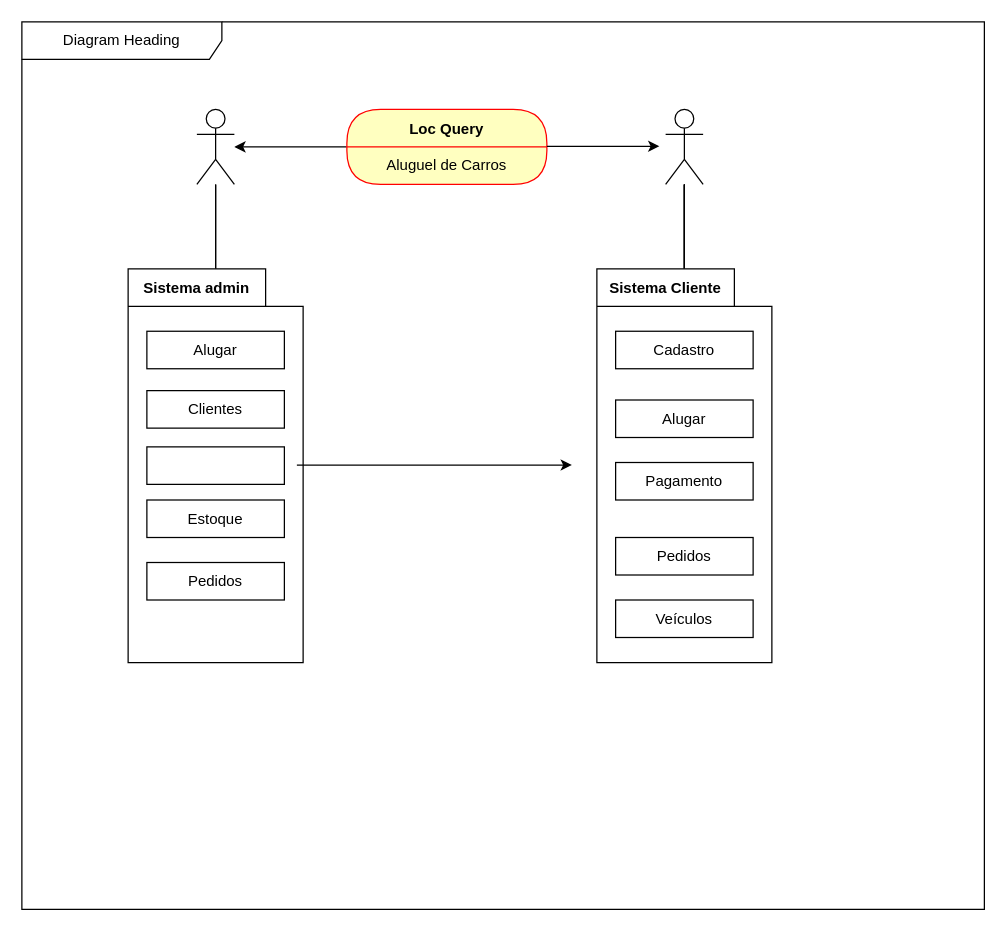
The diagram is 1006 pixels wide and 931 high, and some of its shapes have lost their labels. Here are the shapes that lost their labels. From the top down, the centre of each, then its label:
the point at 215,146: Admin
the point at 683,146: Cliente
the point at 215,465: Financeiro
